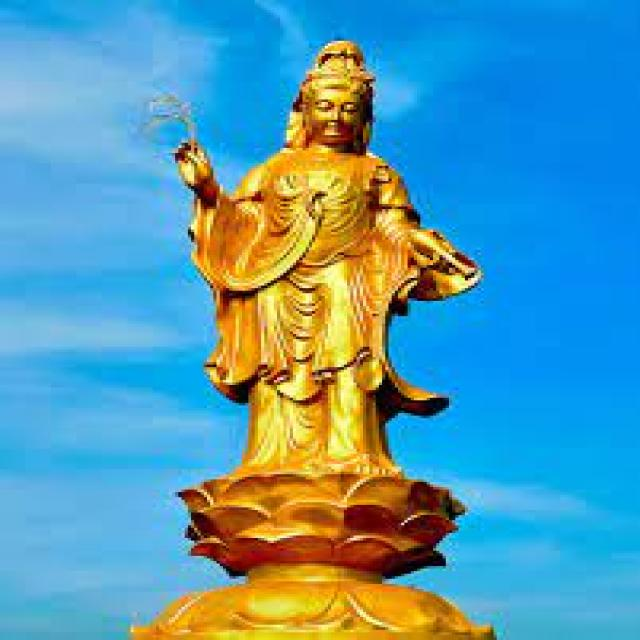Guan Yin: (182, 37, 408, 426)
